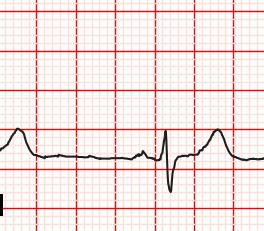LVH: (190, 125, 244, 164)
Poor R Progression: (157, 129, 172, 161)
ST Depression: (155, 155, 188, 195)
